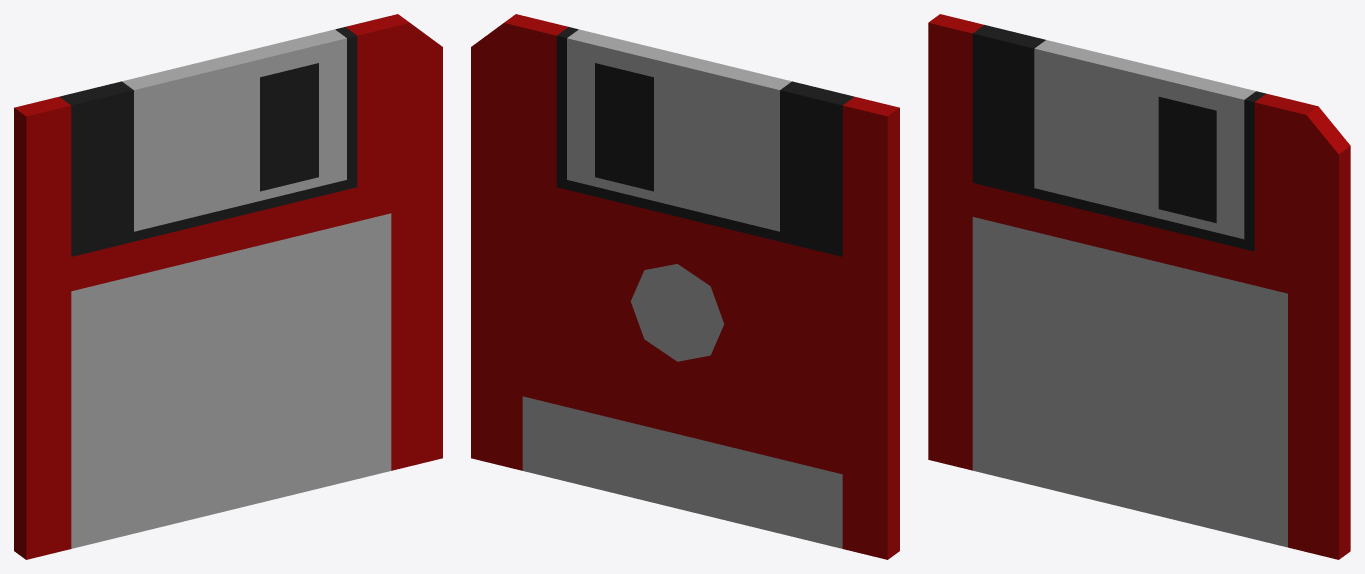
Rendered from floppy_redwhite.FBX.
The picture shows the model from 3 angles, left to right: view 1: azimuth 30°, elevation 25°; view 2: azimuth 150°, elevation 25°; view 3: azimuth 330°, elevation 25°; orthographic projection.
Visible parts, largest first — view 1: floppy_redwhite; view 2: floppy_redwhite; view 3: floppy_redwhite.
Boxes of the visible parts, x1,y1,x2,y2 form: floppy_redwhite: (14, 14, 442, 559); floppy_redwhite: (471, 14, 899, 559); floppy_redwhite: (928, 14, 1350, 559).
Size of the model in its own units: 54.75 by 55.69 by 2.75.
